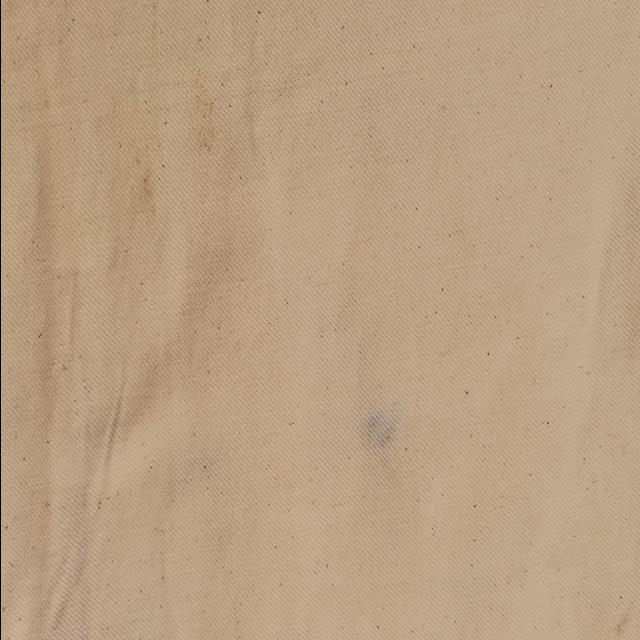taaaches: (350, 405, 399, 465), (195, 71, 221, 161), (132, 159, 160, 231)
